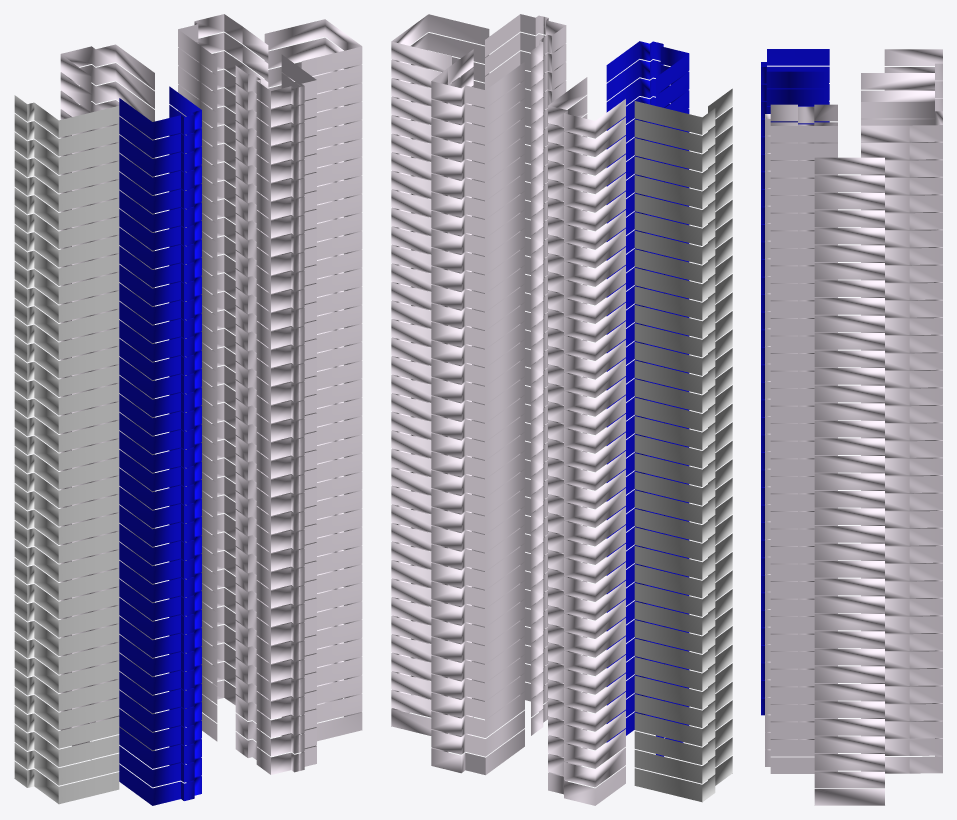
The model's file is forglb.glb.
The picture shows the model from 3 angles, left to right: view 1: azimuth 30°, elevation 25°; view 2: azimuth 150°, elevation 25°; view 3: azimuth 270°, elevation 25°; orthographic projection. The views are drawn at different scales.
Parts seen in each view (by area): view 1: Tower_A_36_3606_Architecture_Walls_Box3840, Tower_A_36_3604_Architecture_Walls_Box3892, Tower_A_36_3603_Architecture_Walls_Box4047, Tower_A_35_3506_Architecture_Walls_Box3740, Tower_A_36_3605_Architecture_Walls_Box3767, Tower_A_36_3602_Architecture_Walls_Box3704, Tower_A_35_3504_Architecture_Walls_Box3792, Tower_A_19_1901_Architecture_Walls_Box1910, Tower_A_32_3201_Architecture_Walls_Box3210, Tower_A_02_201_Architecture_Walls_Box210, Tower_A_07_701_Architecture_Walls_Box710, Tower_A_08_801_Architecture_Walls_Box810 (+176 smaller); view 2: Tower_A_36_3606_Architecture_Walls_Box3840, Tower_A_36_3604_Architecture_Walls_Box3892, Tower_A_36_3603_Architecture_Walls_Box4047, Tower_A_35_3504_Architecture_Walls_Box3792, Tower_A_36_3605_Architecture_Walls_Box3767, Tower_A_36_3602_Architecture_Walls_Box3704, Tower_A_35_3506_Architecture_Walls_Box3740, Tower_A_36_3601_Architecture_Walls_Box3610, Tower_A_13_1301_Architecture_Walls_Box1310, Tower_A_19_1901_Architecture_Walls_Box1910, Tower_A_20_2001_Architecture_Walls_Box2010, Tower_A_21_2101_Architecture_Walls_Box2110 (+143 smaller); view 3: Tower_A_36_3604_Architecture_Walls_Box3892, Tower_A_36_3605_Architecture_Walls_Box3767, Tower_A_36_3603_Architecture_Walls_Box4047, Tower_A_36_3602_Architecture_Walls_Box3704, Tower_A_35_3504_Architecture_Walls_Box3792, Tower_A_35_3502_Architecture_Walls_Box3604, Tower_A_35_3505_Architecture_Walls_Box3667, Tower_A_35_3503_Architecture_Walls_Box3947, Tower_A_01_106_Architecture_Walls_Box340, Tower_A_08_806_Architecture_Walls_Box1040, Tower_A_10_1006_Architecture_Walls_Box1240, Tower_A_12_1206_Architecture_Walls_Box1440 (+105 smaller).
Boxes of the visible parts, x1=… form: Tower_A_36_3606_Architecture_Walls_Box3840: x1=264, y1=19, x2=362, y2=75; Tower_A_36_3604_Architecture_Walls_Box3892: x1=178, y1=14, x2=268, y2=74; Tower_A_36_3603_Architecture_Walls_Box4047: x1=60, y1=44, x2=154, y2=93; Tower_A_35_3506_Architecture_Walls_Box3740: x1=264, y1=37, x2=362, y2=93; Tower_A_36_3605_Architecture_Walls_Box3767: x1=235, y1=54, x2=316, y2=108; Tower_A_36_3602_Architecture_Walls_Box3704: x1=119, y1=86, x2=201, y2=139; Tower_A_35_3504_Architecture_Walls_Box3792: x1=178, y1=32, x2=268, y2=93; Tower_A_19_1901_Architecture_Walls_Box1910: x1=14, y1=410, x2=119, y2=452; Tower_A_32_3201_Architecture_Walls_Box3210: x1=14, y1=169, x2=119, y2=211; Tower_A_02_201_Architecture_Walls_Box210: x1=14, y1=724, x2=119, y2=766; Tower_A_07_701_Architecture_Walls_Box710: x1=14, y1=632, x2=119, y2=674; Tower_A_08_801_Architecture_Walls_Box810: x1=14, y1=613, x2=119, y2=655; Tower_A_36_3606_Architecture_Walls_Box3840: x1=391, y1=14, x2=489, y2=71; Tower_A_36_3604_Architecture_Walls_Box3892: x1=431, y1=49, x2=524, y2=107; Tower_A_36_3603_Architecture_Walls_Box4047: x1=548, y1=77, x2=625, y2=138; Tower_A_35_3504_Architecture_Walls_Box3792: x1=431, y1=68, x2=524, y2=126; Tower_A_36_3605_Architecture_Walls_Box3767: x1=485, y1=14, x2=566, y2=68; Tower_A_36_3602_Architecture_Walls_Box3704: x1=606, y1=41, x2=689, y2=94; Tower_A_35_3506_Architecture_Walls_Box3740: x1=391, y1=32, x2=489, y2=87; Tower_A_36_3601_Architecture_Walls_Box3610: x1=634, y1=88, x2=732, y2=134; Tower_A_13_1301_Architecture_Walls_Box1310: x1=634, y1=515, x2=732, y2=561; Tower_A_19_1901_Architecture_Walls_Box1910: x1=634, y1=404, x2=732, y2=449; Tower_A_20_2001_Architecture_Walls_Box2010: x1=634, y1=385, x2=732, y2=431; Tower_A_21_2101_Architecture_Walls_Box2110: x1=634, y1=366, x2=732, y2=412; Tower_A_36_3604_Architecture_Walls_Box3892: x1=861, y1=102, x2=942, y2=142; Tower_A_36_3605_Architecture_Walls_Box3767: x1=765, y1=104, x2=837, y2=142; Tower_A_36_3603_Architecture_Walls_Box4047: x1=861, y1=49, x2=942, y2=89; Tower_A_36_3602_Architecture_Walls_Box3704: x1=761, y1=49, x2=829, y2=88; Tower_A_35_3504_Architecture_Walls_Box3792: x1=861, y1=119, x2=942, y2=159; Tower_A_35_3502_Architecture_Walls_Box3604: x1=761, y1=66, x2=829, y2=105; Tower_A_35_3505_Architecture_Walls_Box3667: x1=765, y1=122, x2=837, y2=159; Tower_A_35_3503_Architecture_Walls_Box3947: x1=861, y1=67, x2=942, y2=101; Tower_A_01_106_Architecture_Walls_Box340: x1=814, y1=771, x2=884, y2=788; Tower_A_08_806_Architecture_Walls_Box1040: x1=814, y1=648, x2=884, y2=665; Tower_A_10_1006_Architecture_Walls_Box1240: x1=814, y1=613, x2=884, y2=630; Tower_A_12_1206_Architecture_Walls_Box1440: x1=814, y1=578, x2=884, y2=595.
Bounding box in the file's own units: 2076 × 4365 × 1109.
